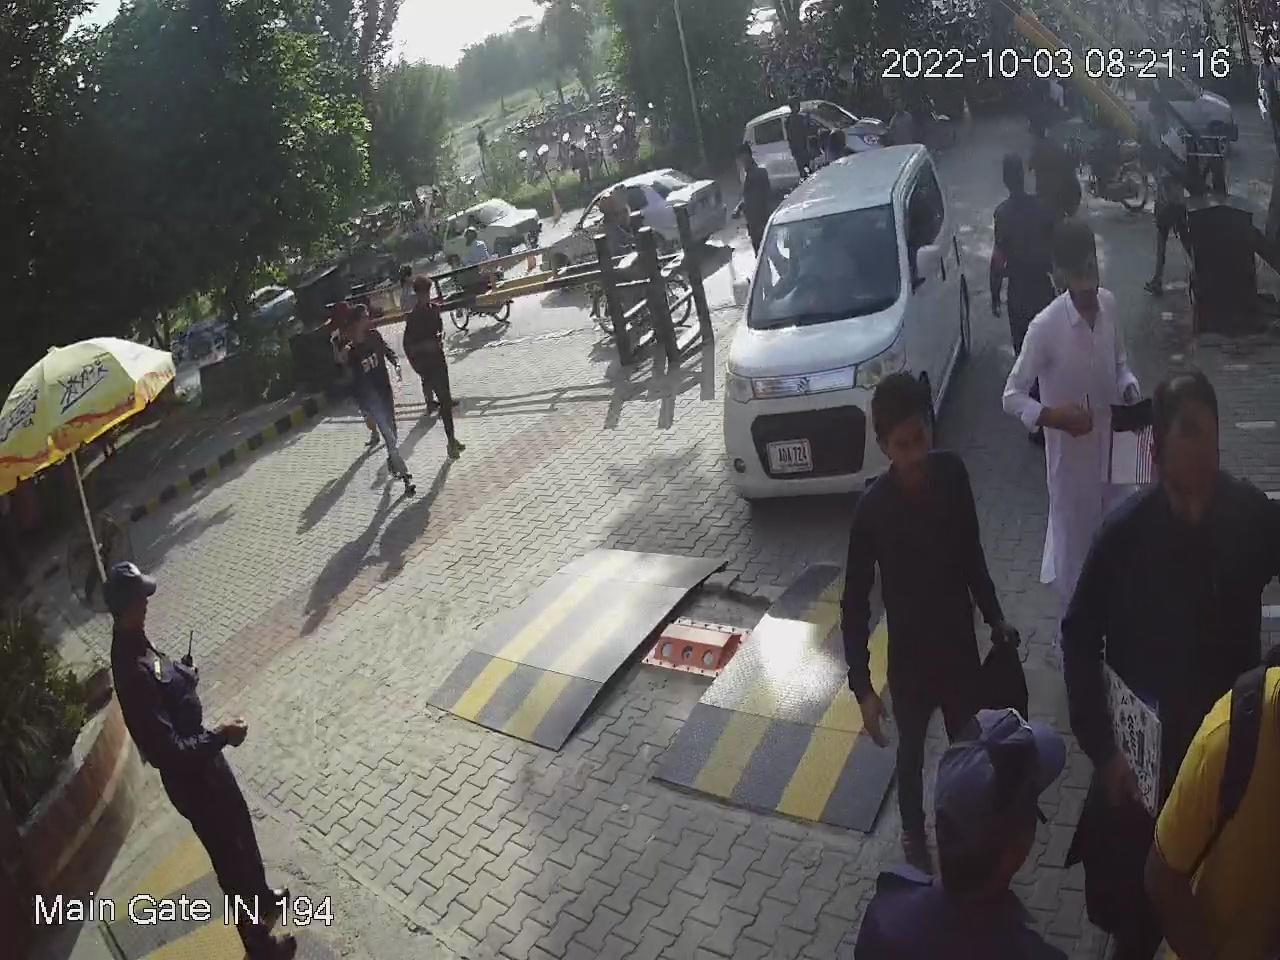windshield: (748, 200, 905, 330)
